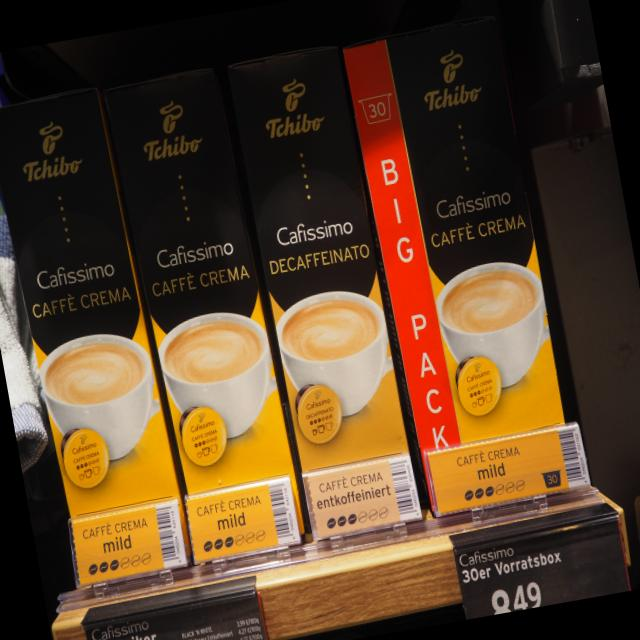Simo CCMild: (341, 12, 582, 522)
Simo CCMild bigpack: (99, 64, 311, 562), (0, 82, 194, 590)
Simo Decaff: (224, 43, 424, 540)
